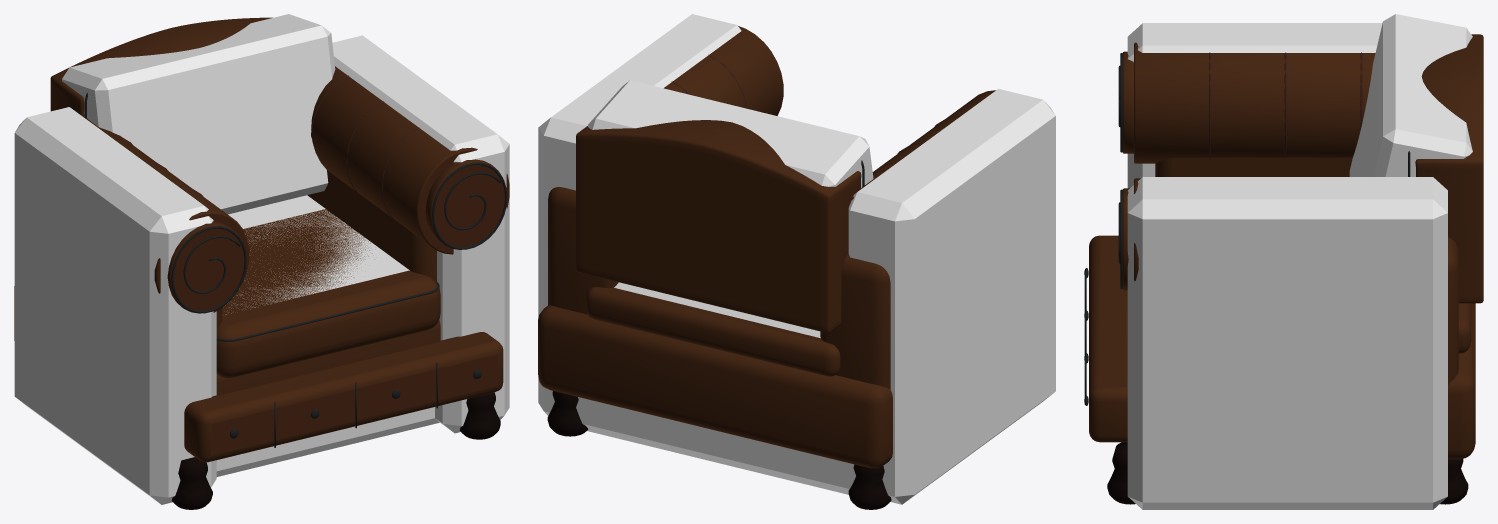
The model's file is chair_high_end.glb.
3 views of the same model, side by side, from view 1: azimuth 30°, elevation 25°; view 2: azimuth 150°, elevation 25°; view 3: azimuth 270°, elevation 25° (orthographic). The views are drawn at different scales.
Parts seen in each view (by area): view 1: COL_Arm_Left, COL_Backrest, SeatCushion, FrontApron_LOD0, COL_Arm_Right, ArmRoll_Right_LOD0, COL_SeatBase, ArmScrollCap_Right_LOD0, ArmScrollCap_Left_LOD0, ArmSidePanel_Right_LOD0, TuftedBackrest, UpholsteredBase_LOD0 (+6 smaller); view 2: COL_Arm_Left, TuftedBackrest, UpholsteredBase_LOD0, COL_SeatBase, COL_Arm_Right, COL_Backrest, SeatDeck_LOD0, ArmSidePanel_Left_LOD0, ArmRoll_Right_LOD0, ArmSidePanel_Right_LOD0, Foot_RL_LOD0, Foot_RR_LOD0 (+1 smaller); view 3: COL_Arm_Right, ArmRoll_Left_LOD0, COL_Backrest, TuftedBackrest, COL_Arm_Left, FrontApron_LOD0, ArmSidePanel_Left_LOD0, UpholsteredBase_LOD0, ArmSidePanel_Right_LOD0, ArmScrollCap_Left_LOD0, RolledArmTrim_Left, Foot_FR_LOD0 (+3 smaller).
Boxes of the visible parts, <box> form: COL_Arm_Left: <box>14,107,216,504</box>; COL_Backrest: <box>62,14,335,214</box>; SeatCushion: <box>216,209,440,378</box>; FrontApron_LOD0: <box>184,332,503,462</box>; COL_Arm_Right: <box>332,35,509,433</box>; ArmRoll_Right_LOD0: <box>311,66,509,254</box>; COL_SeatBase: <box>216,195,439,476</box>; ArmScrollCap_Right_LOD0: <box>425,159,504,249</box>; ArmScrollCap_Left_LOD0: <box>167,221,244,313</box>; ArmSidePanel_Right_LOD0: <box>307,170,436,281</box>; TuftedBackrest: <box>50,17,272,116</box>; UpholsteredBase_LOD0: <box>14,286,440,395</box>; COL_Arm_Left: <box>848,88,1055,504</box>; TuftedBackrest: <box>576,120,861,332</box>; UpholsteredBase_LOD0: <box>538,305,892,468</box>; COL_SeatBase: <box>576,282,855,494</box>; COL_Arm_Right: <box>538,14,741,415</box>; COL_Backrest: <box>588,80,873,187</box>; SeatDeck_LOD0: <box>586,287,840,376</box>; ArmSidePanel_Left_LOD0: <box>820,254,890,389</box>; ArmRoll_Right_LOD0: <box>664,26,783,115</box>; ArmSidePanel_Right_LOD0: <box>548,187,618,314</box>; Foot_RL_LOD0: <box>848,464,891,509</box>; Foot_RR_LOD0: <box>547,391,588,436</box>; COL_Arm_Right: <box>1127,177,1447,509</box>; ArmRoll_Left_LOD0: <box>1134,42,1375,163</box>; COL_Backrest: <box>1349,14,1472,176</box>; TuftedBackrest: <box>1415,34,1483,303</box>; COL_Arm_Left: <box>1127,23,1382,188</box>; FrontApron_LOD0: <box>1089,235,1127,442</box>; ArmSidePanel_Left_LOD0: <box>1155,157,1352,176</box>; UpholsteredBase_LOD0: <box>1448,303,1475,459</box>; ArmSidePanel_Right_LOD0: <box>1448,237,1458,384</box>; ArmScrollCap_Left_LOD0: <box>1122,51,1133,153</box>; RolledArmTrim_Left: <box>1118,52,1362,158</box>; Foot_FR_LOD0: <box>1107,442,1135,504</box>.
Size of what is drawn, in the model's own units: 1.05 by 0.908 by 0.9382.
4 materials, 1 textured.
